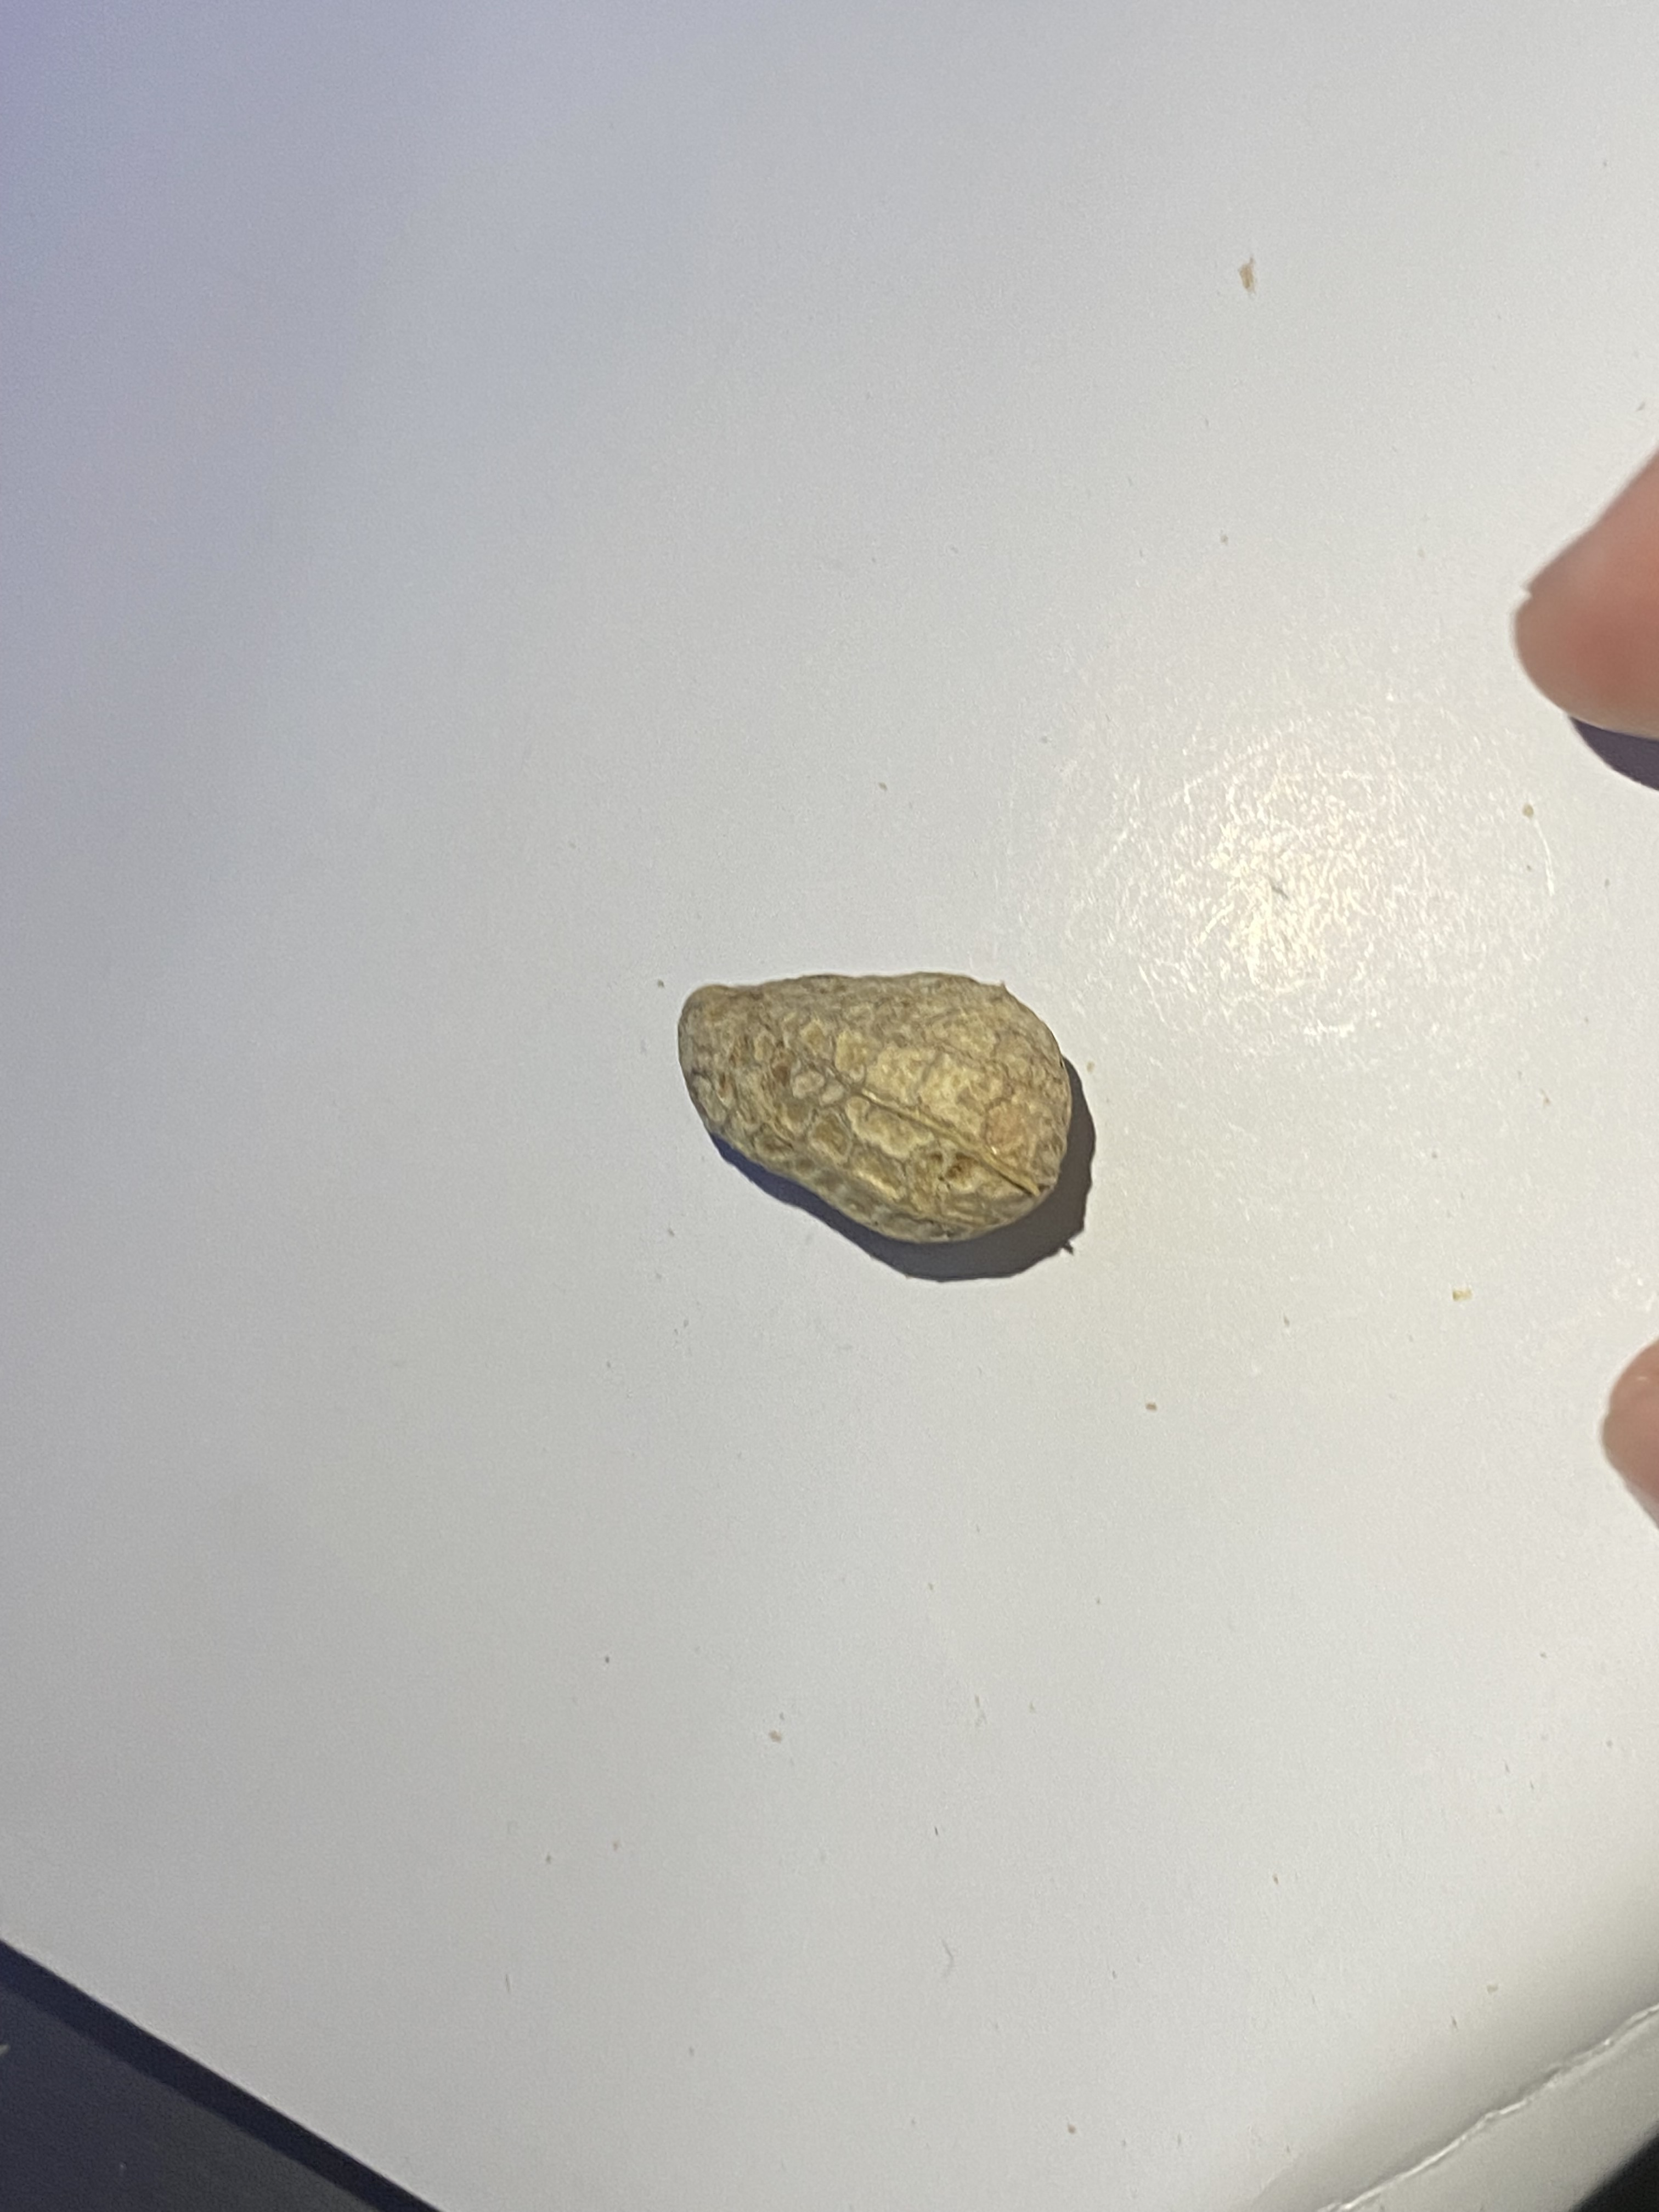kacang1: (657, 948, 1091, 1247)
